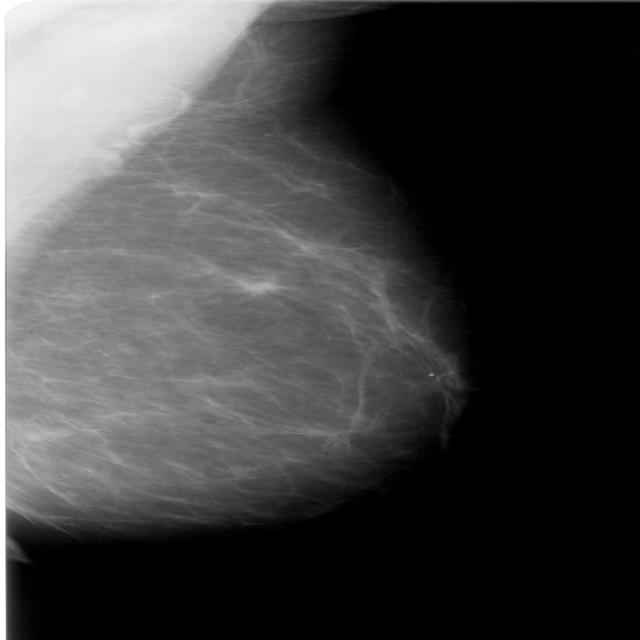cancer: (235, 255, 365, 332), (293, 417, 411, 487)
